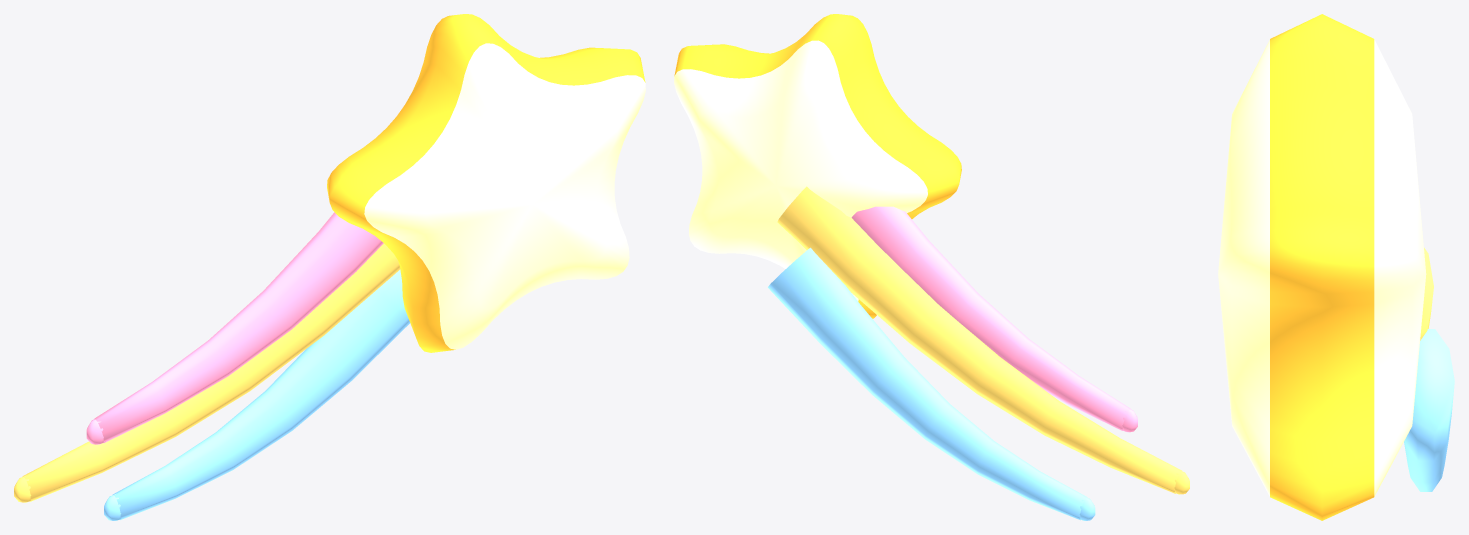
File: estrela-cadente.glb
The picture shows the model from 3 angles, left to right: view 1: azimuth 30°, elevation 25°; view 2: azimuth 150°, elevation 25°; view 3: azimuth 270°, elevation 25°; orthographic projection. The views are drawn at different scales.
Parts seen in each view (by area): view 1: estrela-cadente; view 2: estrela-cadente; view 3: estrela-cadente.
Boxes of the visible parts, box(x1,y1,x2,y2) form: estrela-cadente: box(14, 14, 645, 520); estrela-cadente: box(674, 14, 1189, 520); estrela-cadente: box(1218, 14, 1454, 520).
Bounding box in the file's own units: 0.1837 × 0.1349 × 0.0455.
